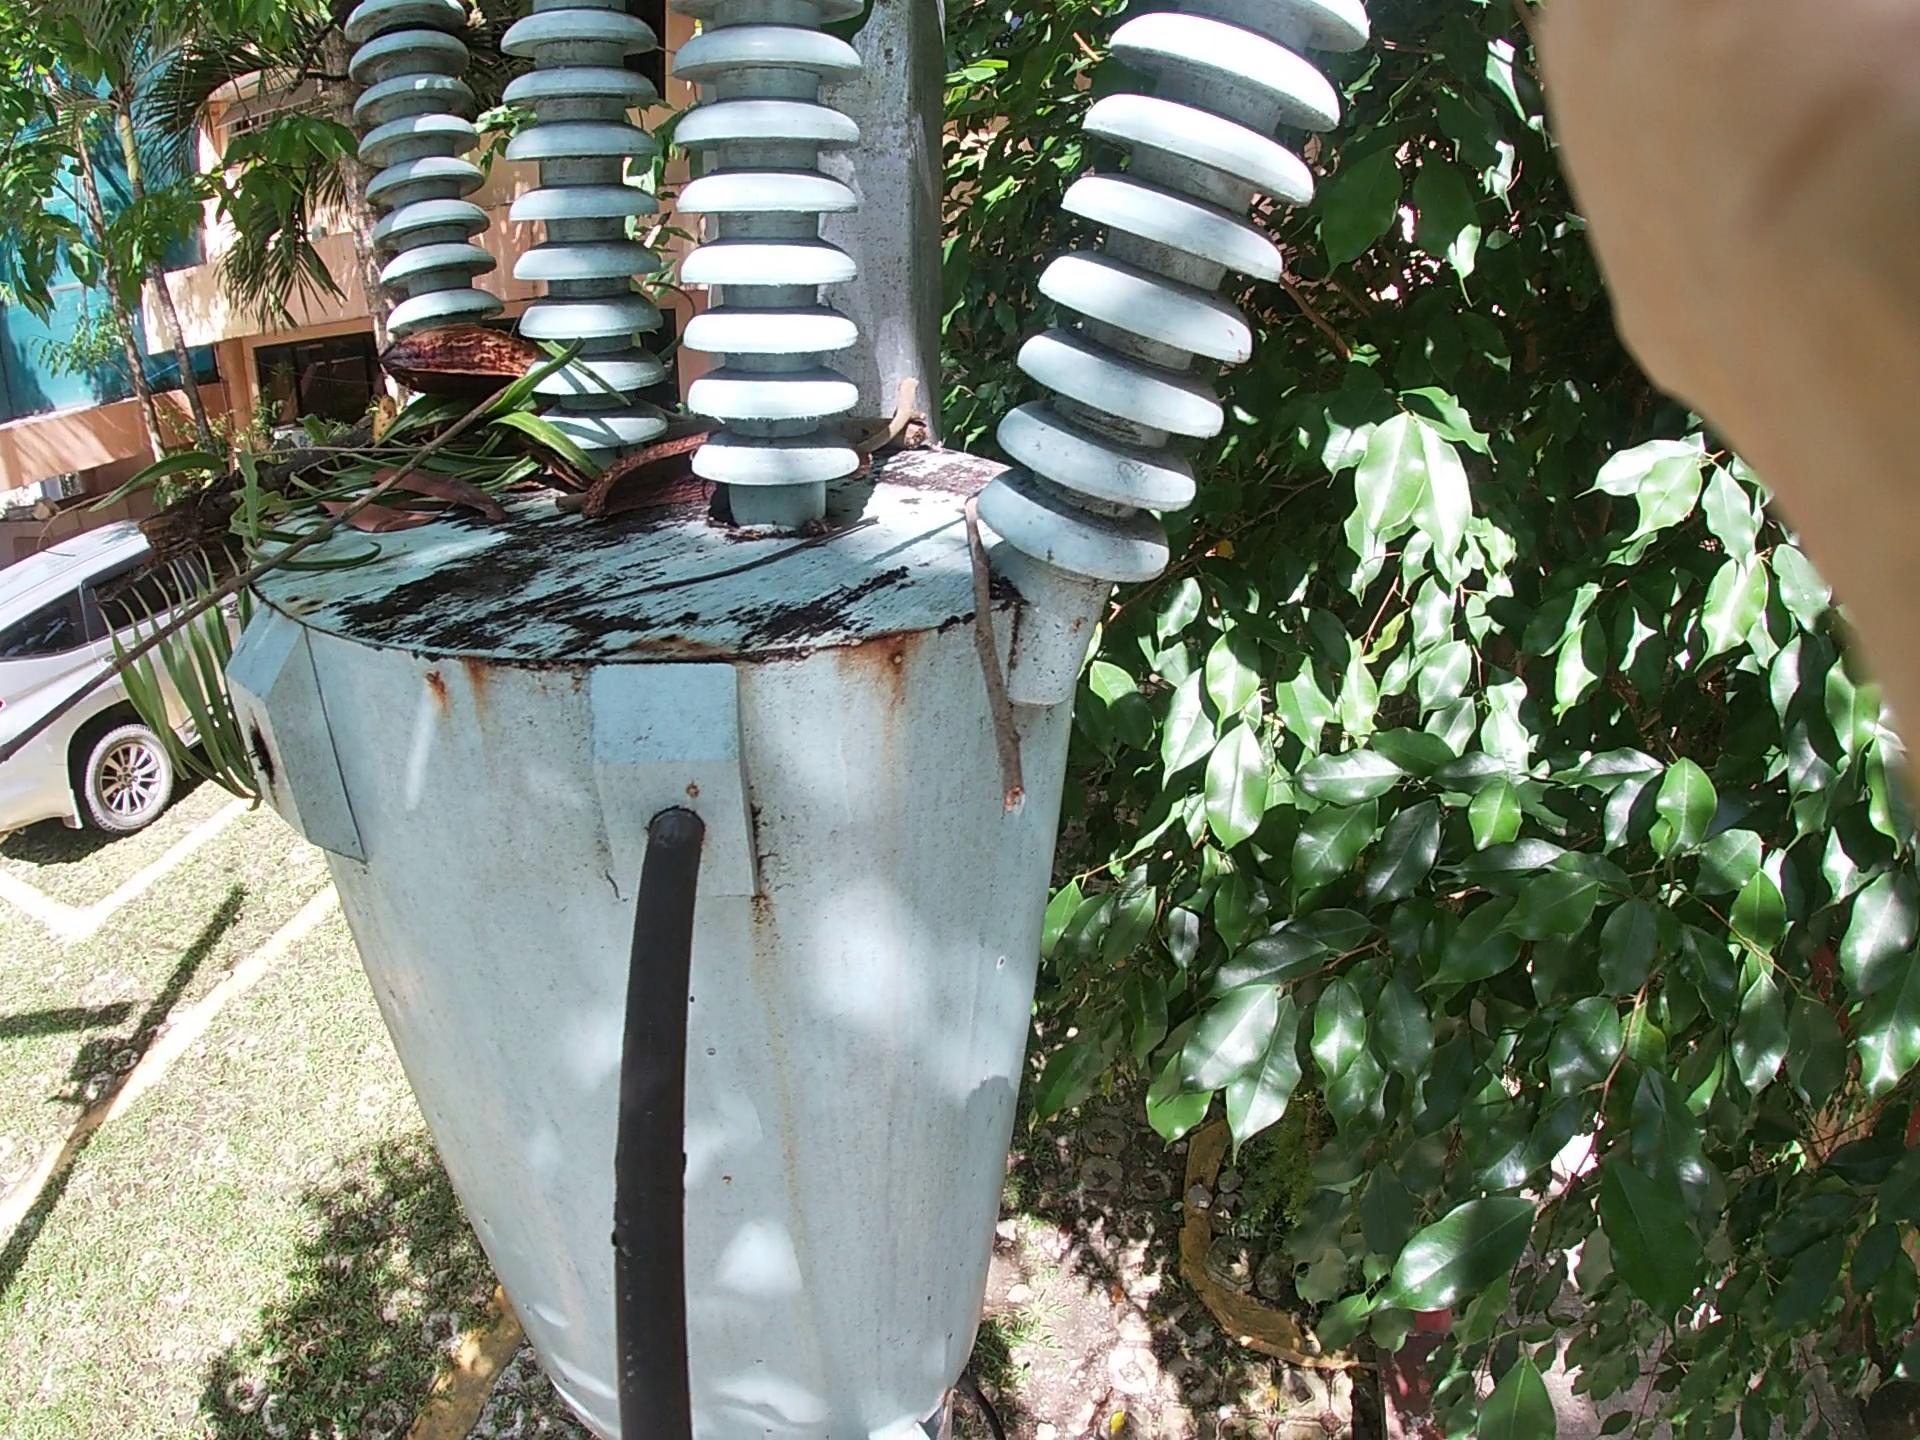branch with leaves: (2, 266, 547, 653)
leaf: (358, 440, 540, 607)
tree branch: (54, 337, 588, 729), (918, 466, 1052, 790), (821, 306, 940, 498), (561, 483, 688, 569)
